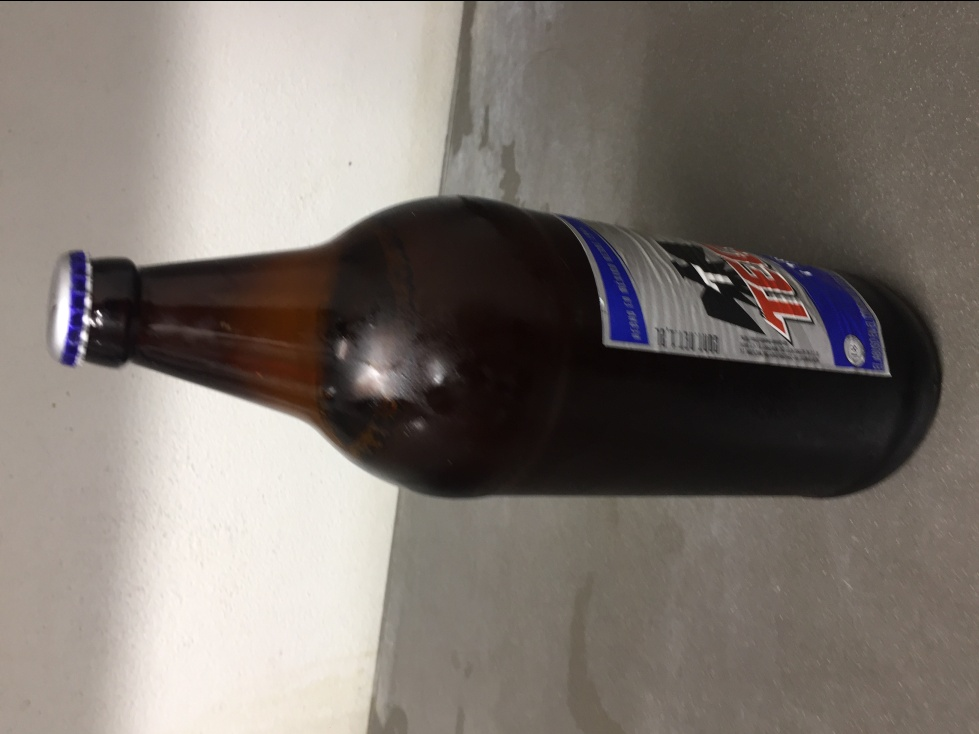tecateC: (50, 197, 942, 505)
